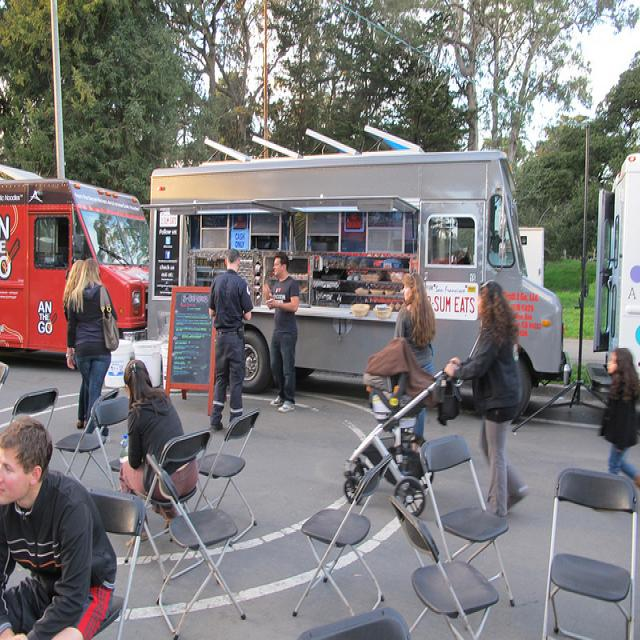Vehicle: (140, 151, 572, 420), (148, 153, 569, 420), (0, 165, 150, 353), (590, 151, 640, 388)
